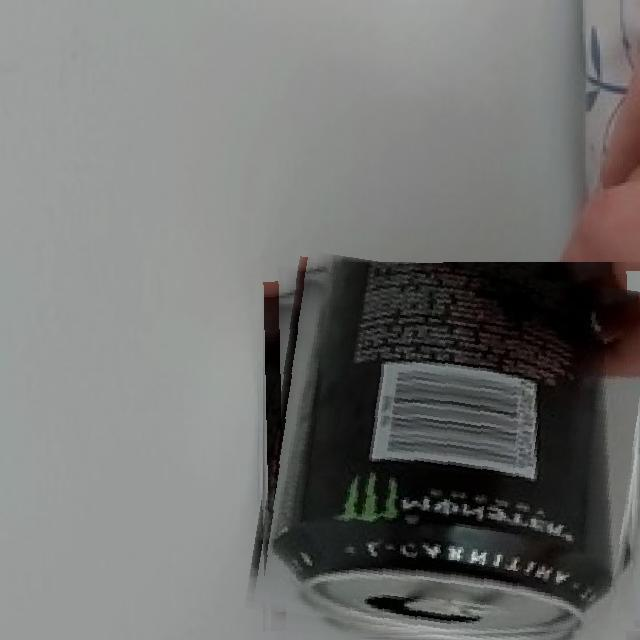recyclable: (257, 262, 640, 640)
